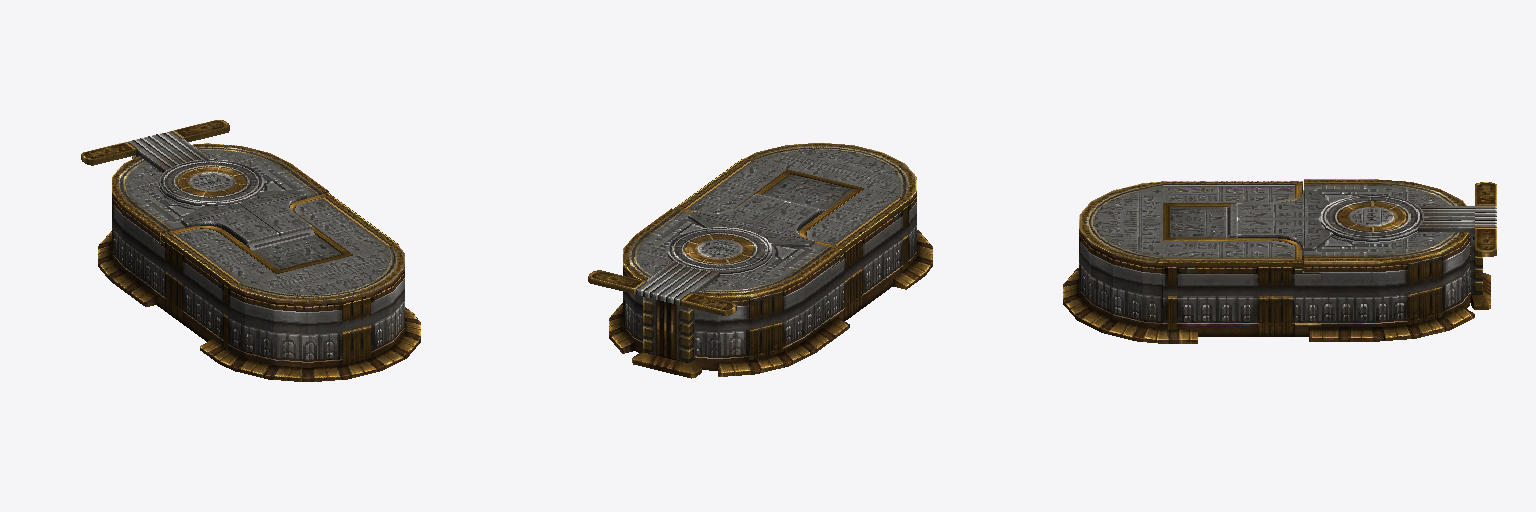
3 views of the same model, side by side, from view 1: azimuth 30°, elevation 25°; view 2: azimuth 150°, elevation 25°; view 3: azimuth 270°, elevation 25° (orthographic).
Parts seen in each view (by area): view 1: Sarcophagus; view 2: Sarcophagus; view 3: Sarcophagus.
Boxes of the visible parts, box(x1,y1,x2,y2) form: Sarcophagus: box(81, 120, 420, 381); Sarcophagus: box(588, 143, 932, 378); Sarcophagus: box(1063, 179, 1496, 343).
Size of the model in its own units: 6.04 by 2.38 by 11.64.
1 materials, 1 textured.